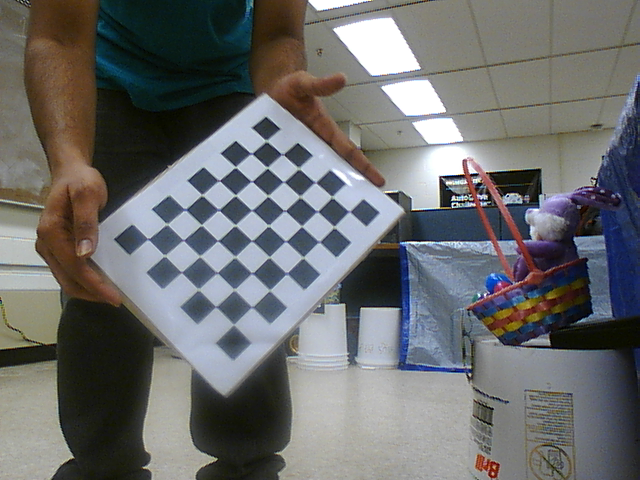bunny: (454, 144, 598, 346)
